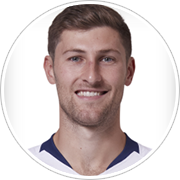smile: (72, 88, 108, 100)
